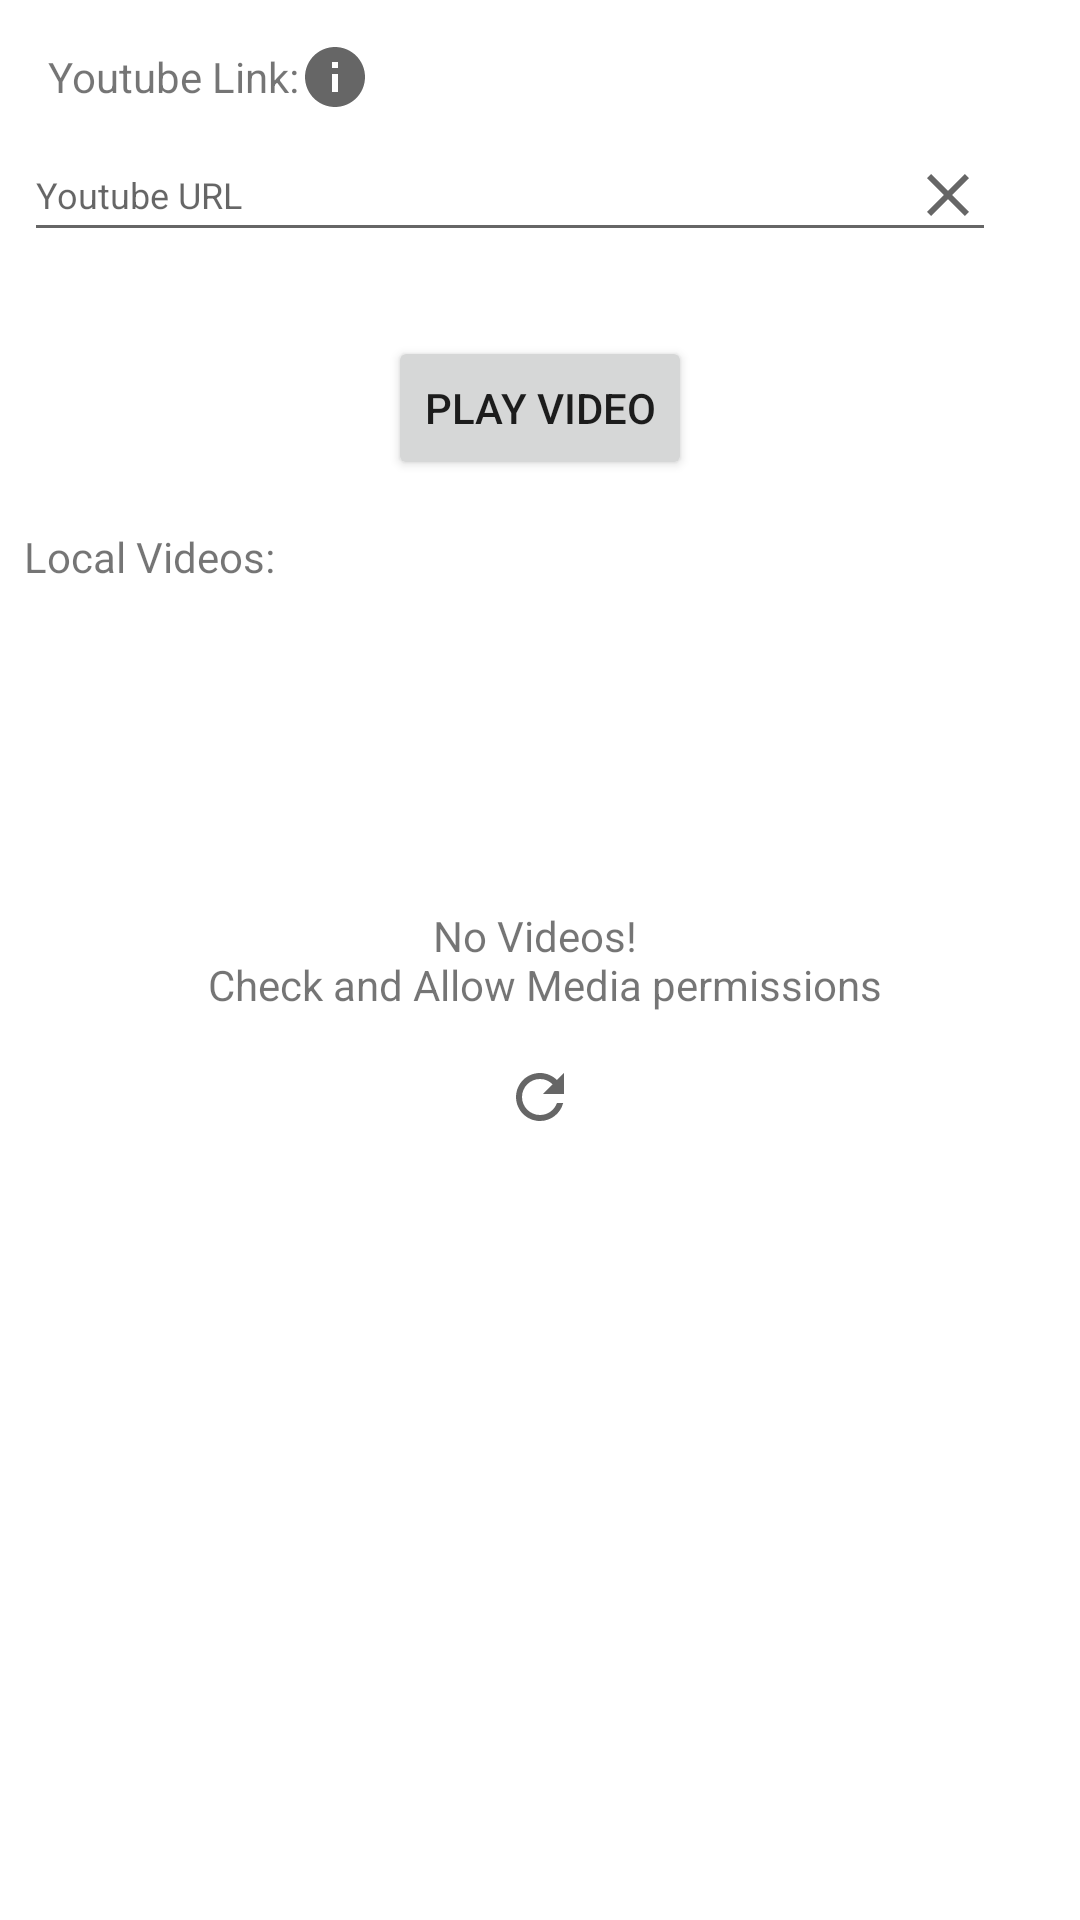

Icon bounding boxes for this 1080w x 1920h phone screenshot, format bbox=[x1, y1, x2, y2]:
info: bbox=[305, 47, 365, 107]
refresh: bbox=[516, 1073, 564, 1121]
